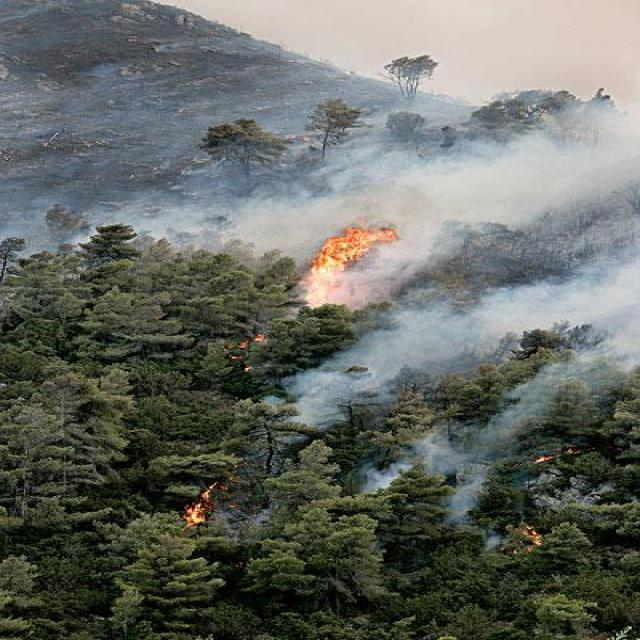Fire: (297, 224, 402, 304)
Smoke: (258, 108, 640, 216)
